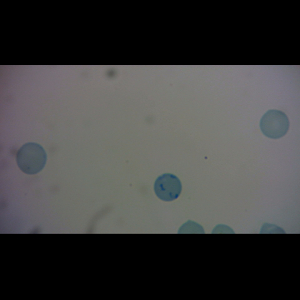aggregate reticulocyte: (153, 173, 182, 202)
erythrocyte: (259, 109, 289, 139)
punctate reticulocyte: (15, 142, 48, 175)
